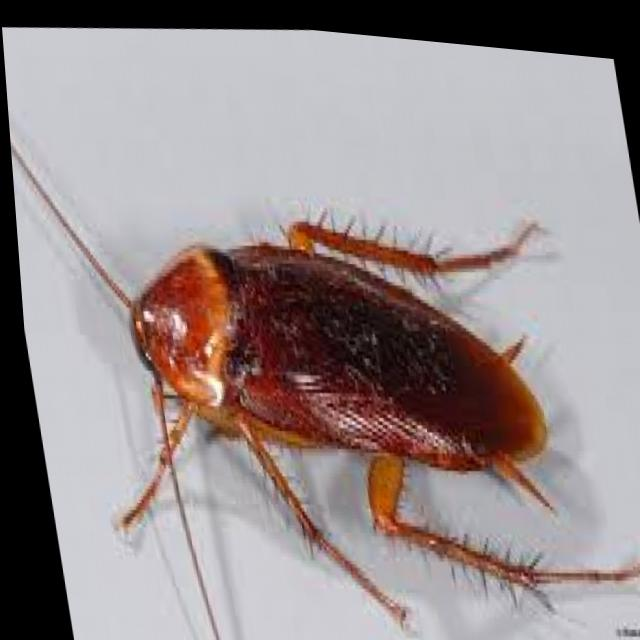Cockroach: (2, 40, 640, 640)
